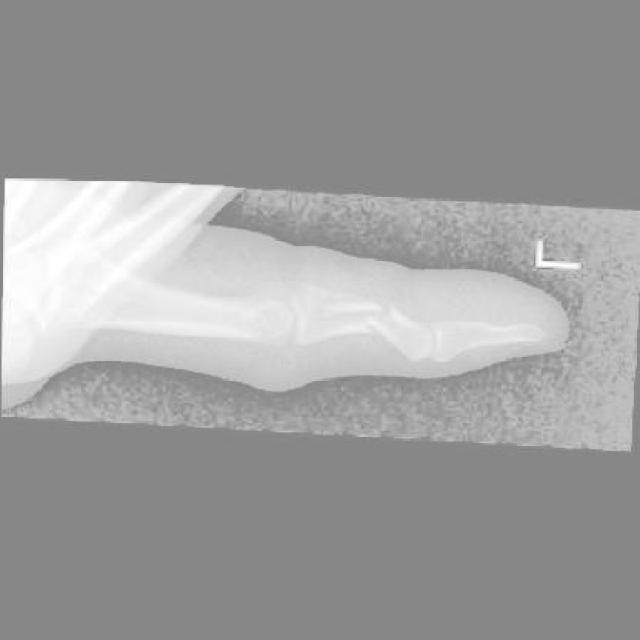bone: (321, 297, 397, 345)
